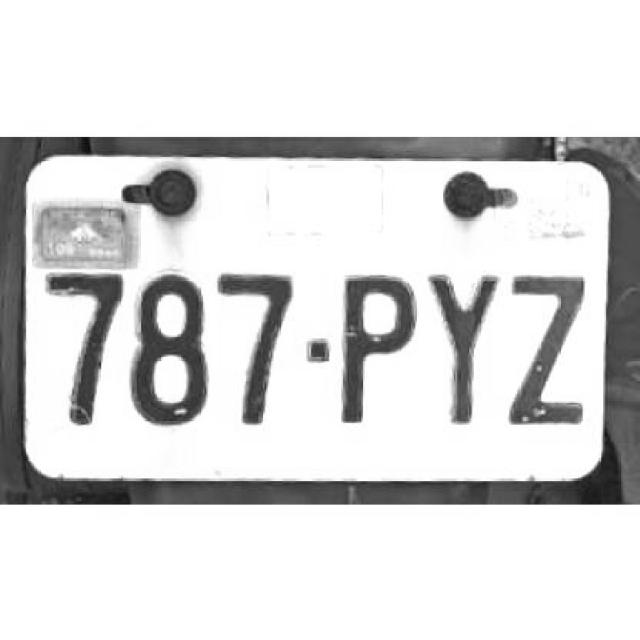-: (306, 337, 331, 363)
7: (42, 270, 126, 424), (216, 272, 296, 423)
8: (129, 266, 211, 426)
P: (343, 269, 419, 423)
Y: (426, 272, 502, 428)
Z: (509, 272, 588, 428)
